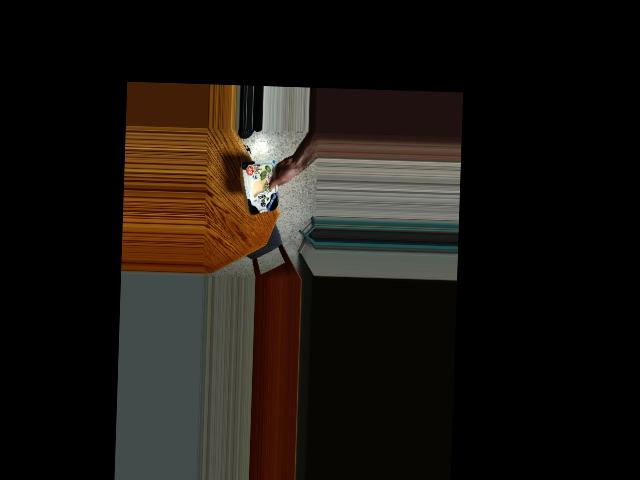cheese: (239, 160, 281, 215)
